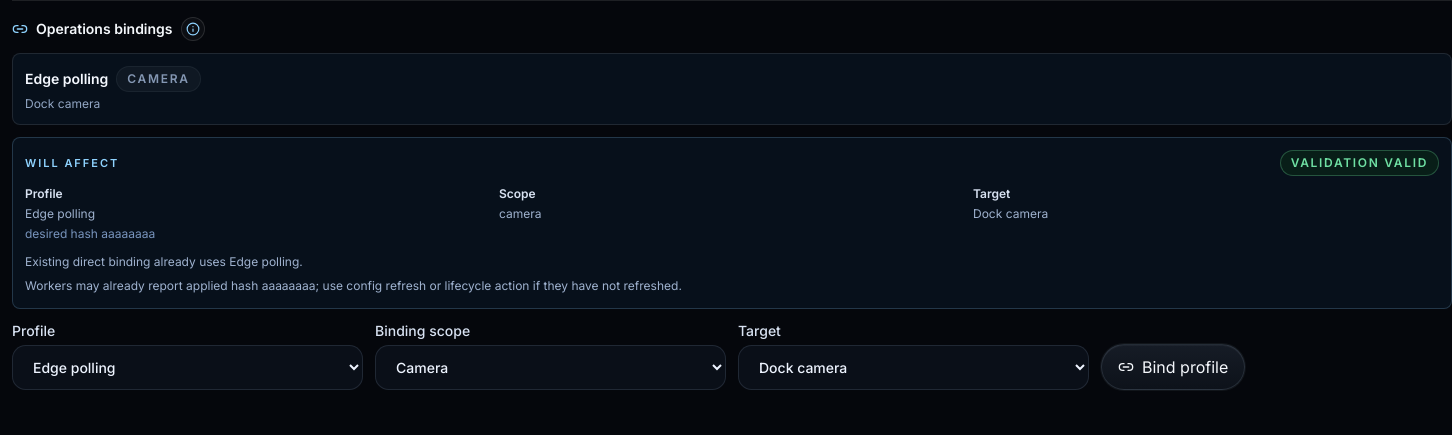
it: ProfileBindingPanel › previews the selected binding impact and direct replacement
Select "Central push" in the dropdown labelled "Profile" at (188, 368), box x1=12 y1=345 x2=363 y2=390
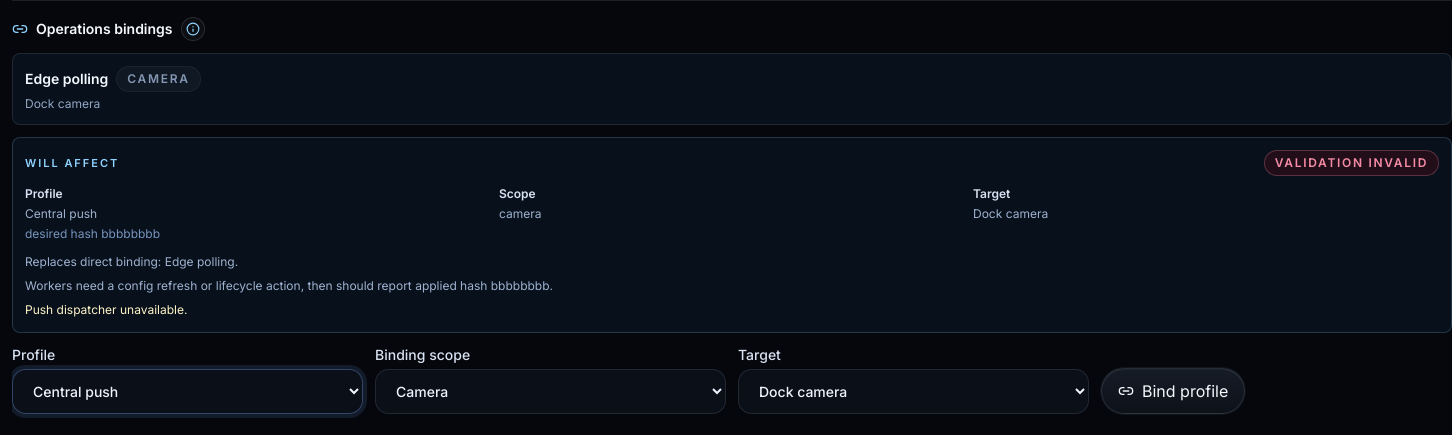
Check: the text "Central push" is shown, box x1=25 y1=206 x2=97 y2=221
Check: the text "validation invalid" is shown, box x1=1264 y1=150 x2=1439 y2=176
Check: the text "Replaces direct binding: Edge polling." is shown, box x1=25 y1=254 x2=238 y2=269
